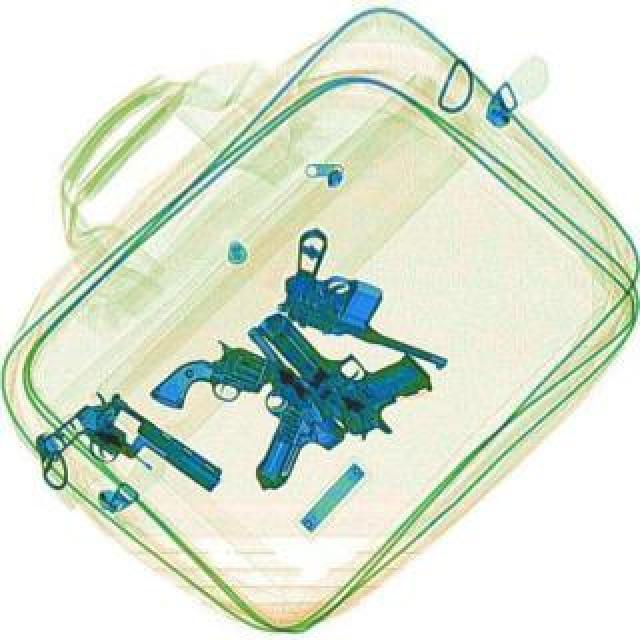gun: (148, 320, 384, 480), (252, 264, 444, 452), (264, 222, 480, 374), (170, 318, 354, 494), (34, 378, 228, 542)
